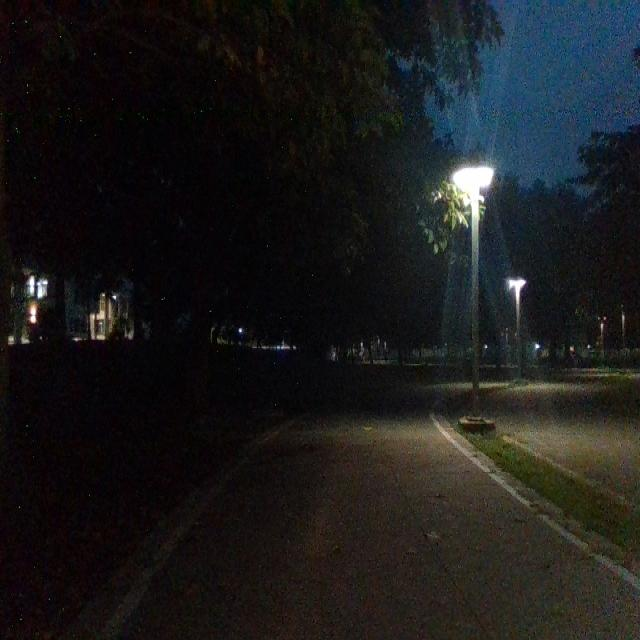lane: (126, 425, 639, 634)
